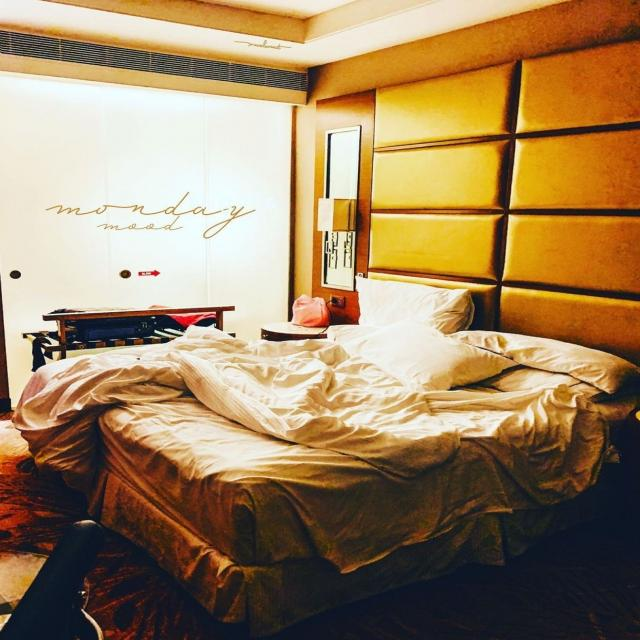bed: (68, 266, 625, 596)
